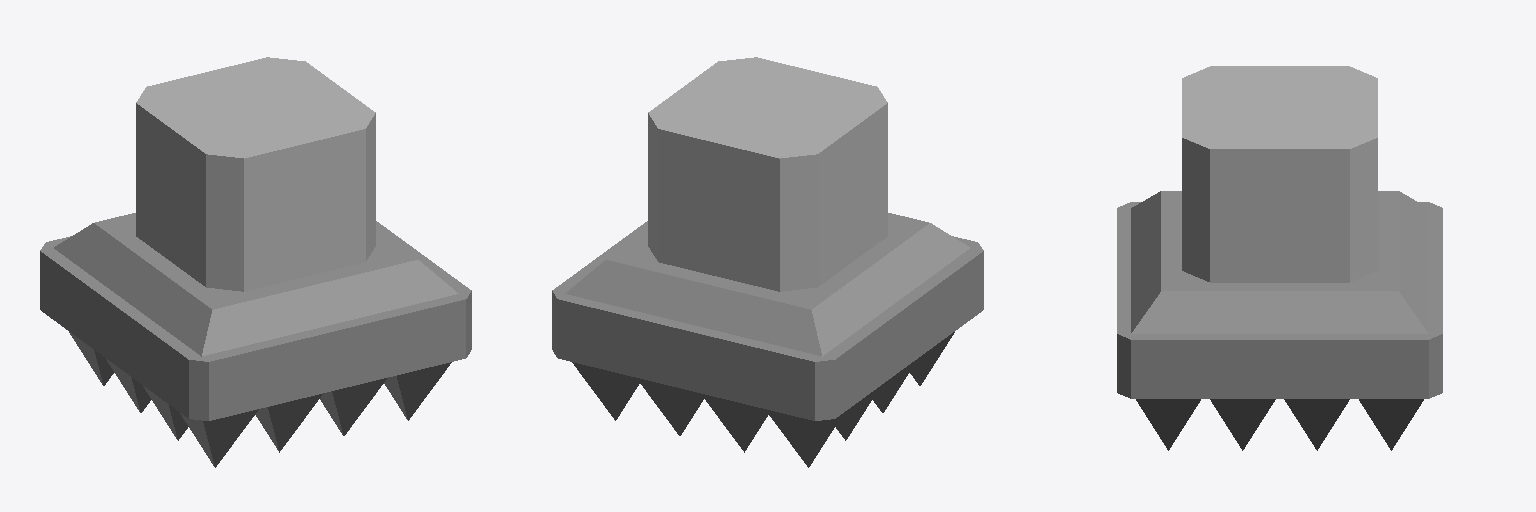
File: trap_ceiling_crusher_base.obj
The picture shows the model from 3 angles: view 1: azimuth 30°, elevation 25°; view 2: azimuth 150°, elevation 25°; view 3: azimuth 270°, elevation 25°; orthographic projection.
Parts seen in each view (by area): view 1: trap_ceiling_crusher_base; view 2: trap_ceiling_crusher_base; view 3: trap_ceiling_crusher_base.
Boxes of the visible parts, x1,y1,x2,y2 form: trap_ceiling_crusher_base: [40, 57, 471, 467]; trap_ceiling_crusher_base: [552, 57, 983, 467]; trap_ceiling_crusher_base: [1117, 66, 1442, 450].
Bounding box in the file's own units: 1 × 1 × 1.